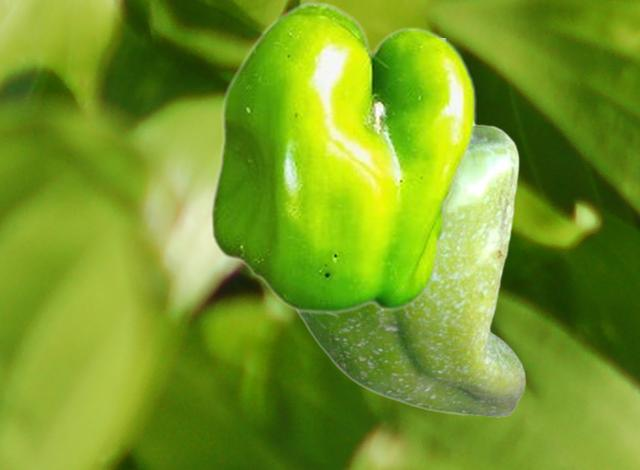bell_pepper: (209, 1, 475, 313), (295, 120, 525, 416)
